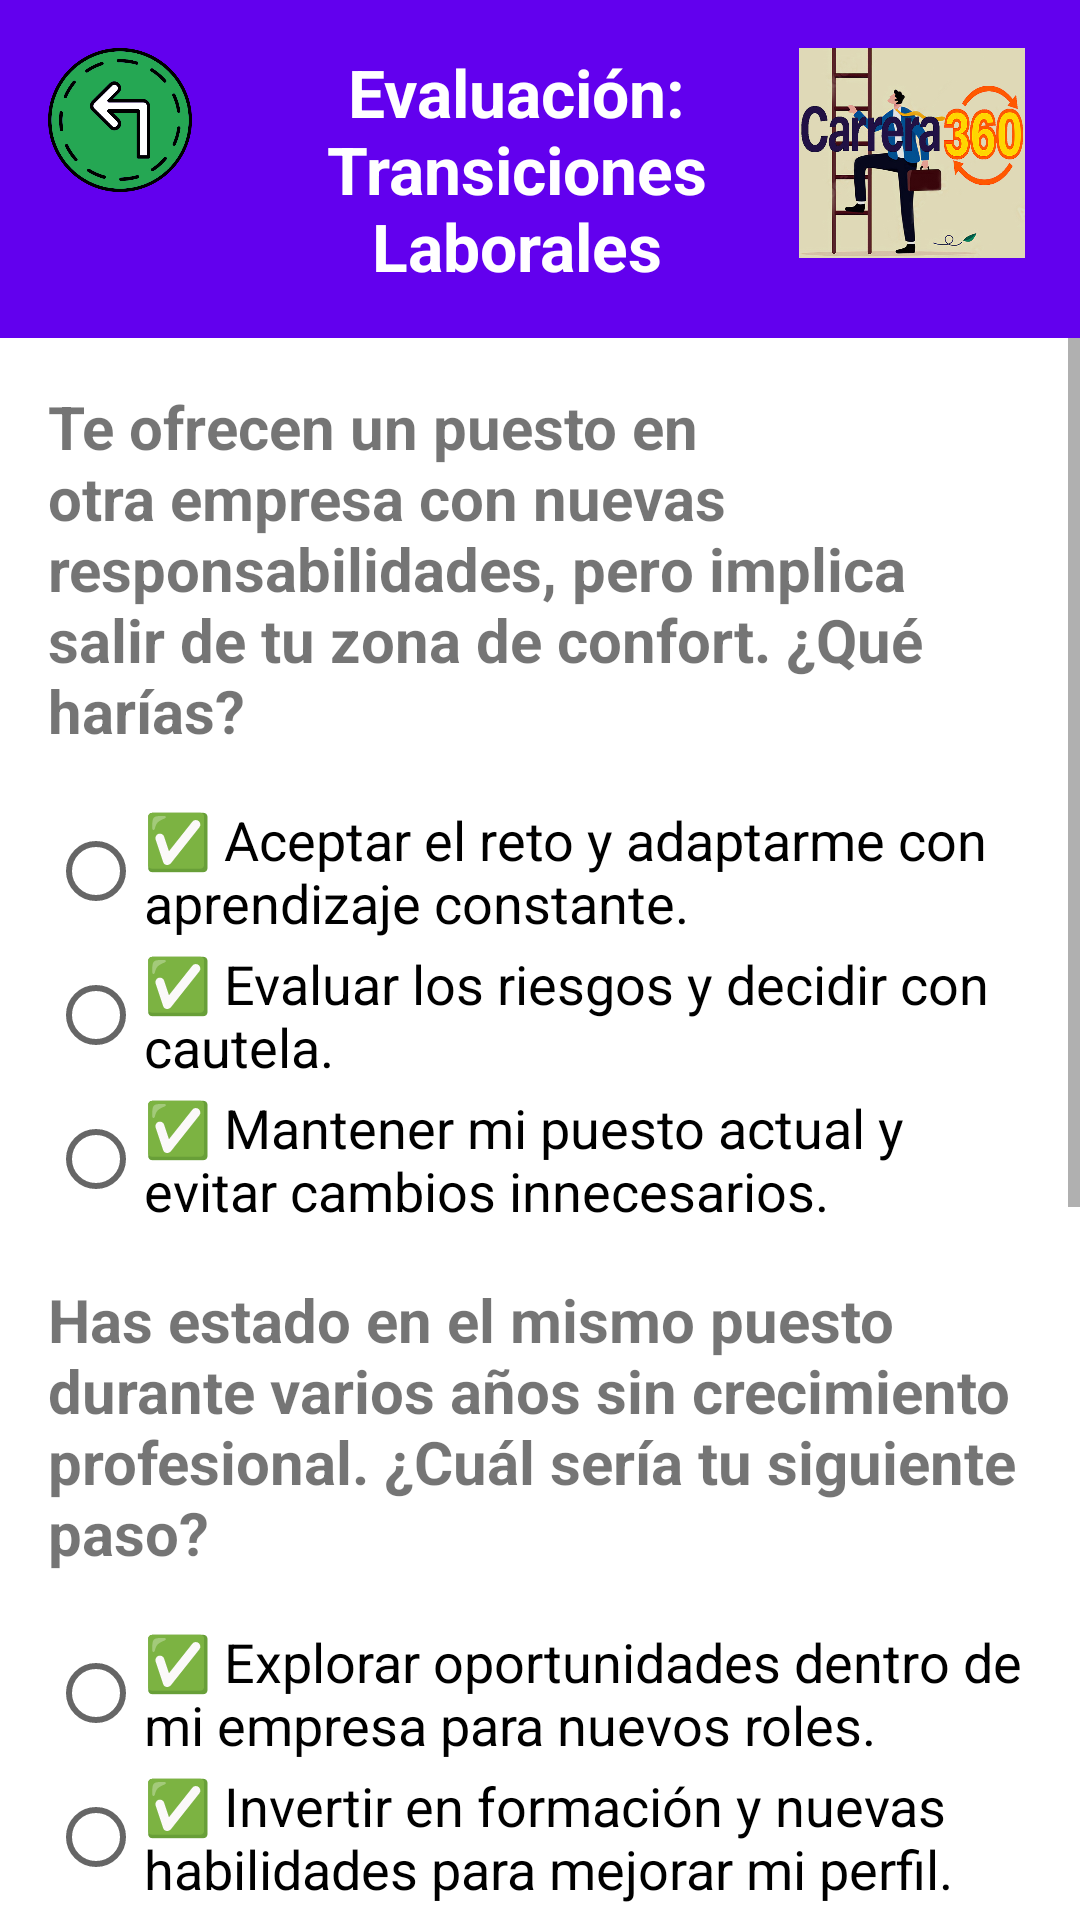

Icons on this 1080px×1920px Android screen, each with its box as (x1, y1, x2, y2):
Regresar a Inicio: (48, 48, 192, 192)
